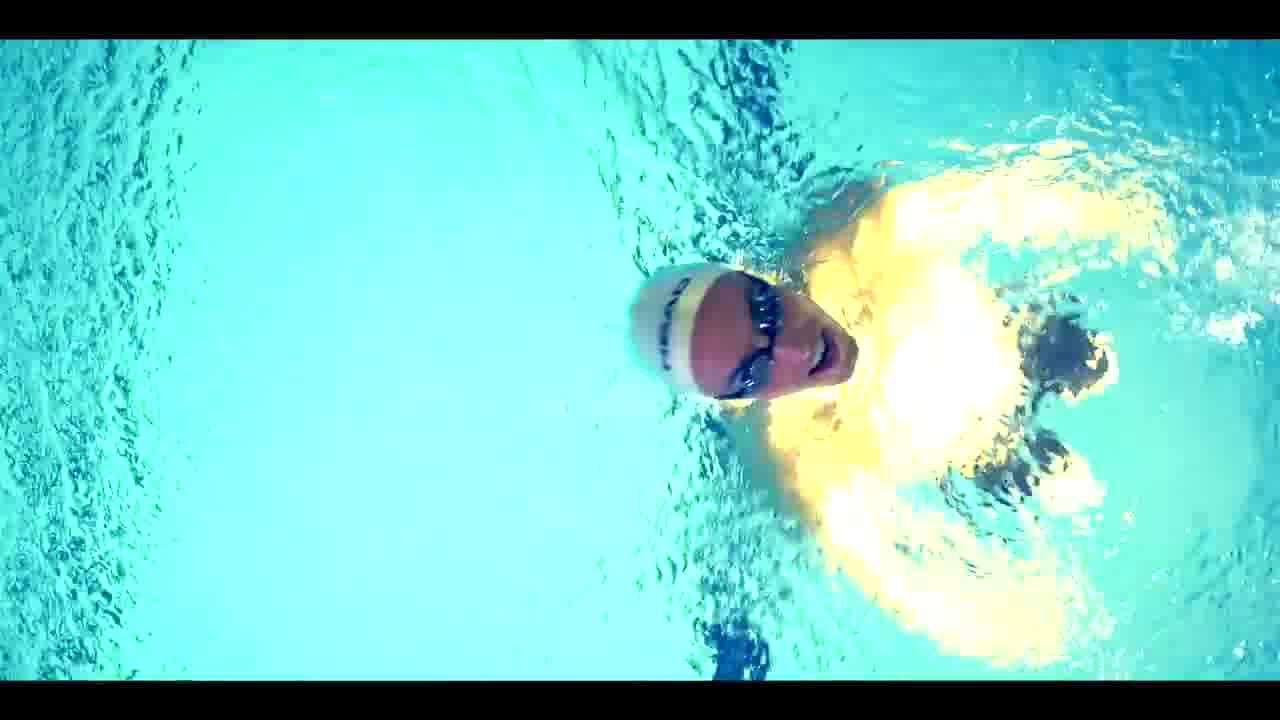human: (622, 189, 1171, 622)
